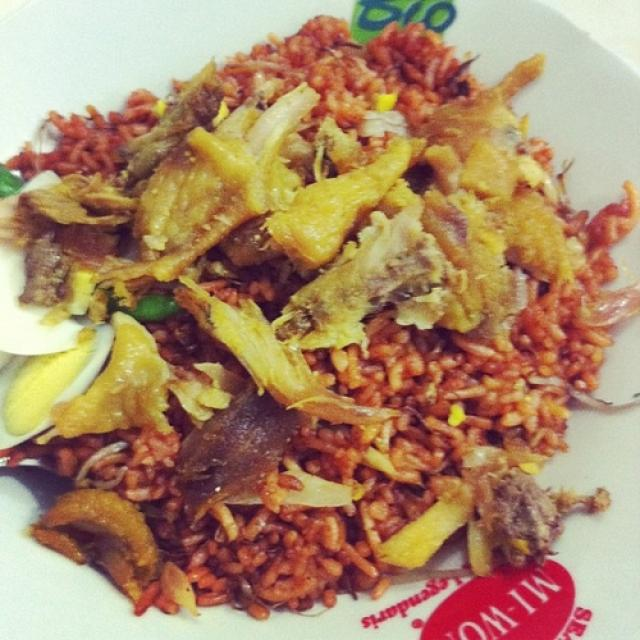米饭主食: (23, 28, 608, 608)
